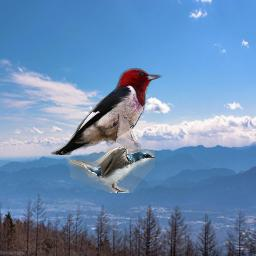Swallow: (66, 145, 155, 193)
Woodpecker: (49, 67, 165, 155)
